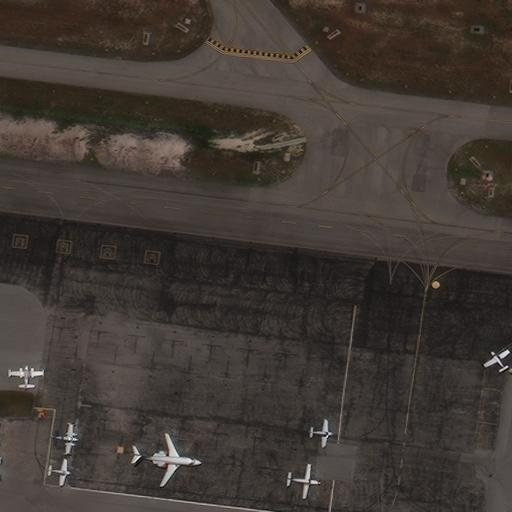Medium Civil Transport: (132, 432, 200, 486)
Small Civil Transport: (286, 464, 321, 498), (8, 364, 43, 390), (51, 423, 79, 454), (307, 419, 334, 447), (47, 460, 72, 487), (483, 349, 508, 370)
